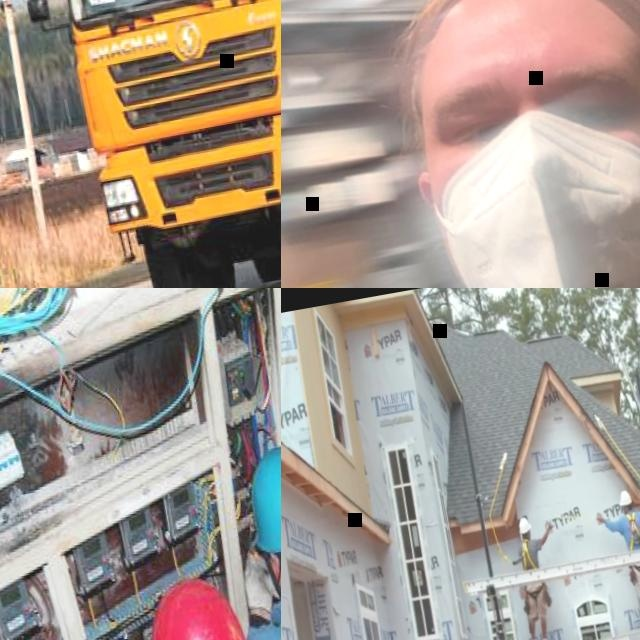Hardhat: (135, 570, 264, 640), (236, 439, 281, 558), (516, 516, 532, 535), (617, 489, 633, 507)
Mask: (421, 94, 640, 288)
NO-Hardhat: (389, 0, 640, 78)
NO-Mask: (527, 533, 531, 540), (622, 509, 627, 514)
NO-Safety Vest: (618, 510, 640, 551), (517, 539, 539, 569)
Person: (281, 0, 640, 288), (508, 512, 574, 640), (590, 486, 640, 633)
machinery: (0, 0, 281, 288)
